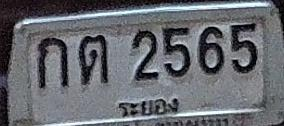2: (132, 29, 158, 81)
5: (162, 26, 190, 78), (230, 22, 258, 73)
6: (198, 26, 224, 74)
A01: (38, 36, 68, 88)
A21: (78, 34, 108, 84)
RYG: (115, 95, 181, 121)
